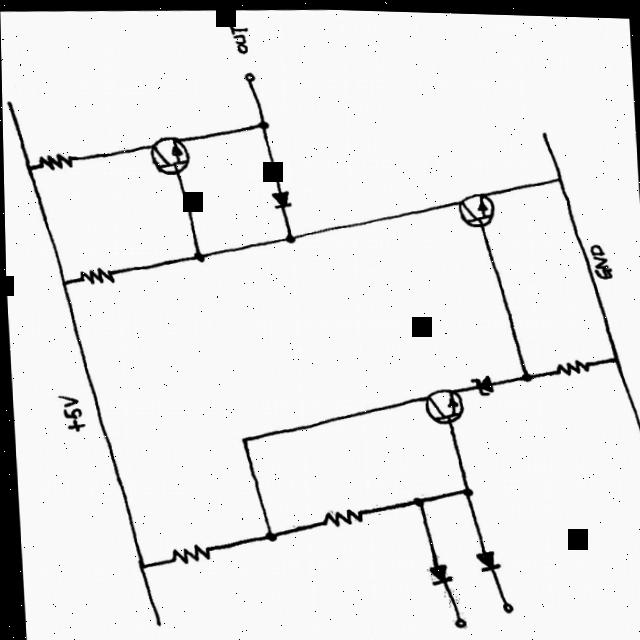diode: (423, 556, 452, 585), (471, 545, 500, 572), (266, 182, 292, 212), (466, 370, 492, 394)
junction: (454, 477, 475, 501), (250, 113, 273, 134), (513, 365, 535, 383), (231, 431, 251, 450), (406, 489, 424, 510), (257, 525, 276, 544), (277, 227, 296, 245), (547, 167, 565, 186), (186, 247, 205, 264), (604, 346, 620, 365), (52, 274, 69, 290), (129, 559, 146, 573), (18, 159, 32, 176)
resistor: (316, 504, 362, 526), (165, 542, 211, 563), (74, 263, 114, 284), (551, 354, 590, 374), (34, 151, 74, 170)
terminal: (139, 599, 163, 634), (441, 609, 466, 634), (492, 592, 515, 619), (237, 65, 259, 92), (2, 88, 17, 127), (532, 120, 551, 149), (635, 434, 640, 466)
text: (583, 232, 612, 281), (54, 391, 84, 437), (224, 19, 250, 58)
transistor: (146, 131, 190, 175), (453, 185, 496, 226), (420, 383, 462, 423)
